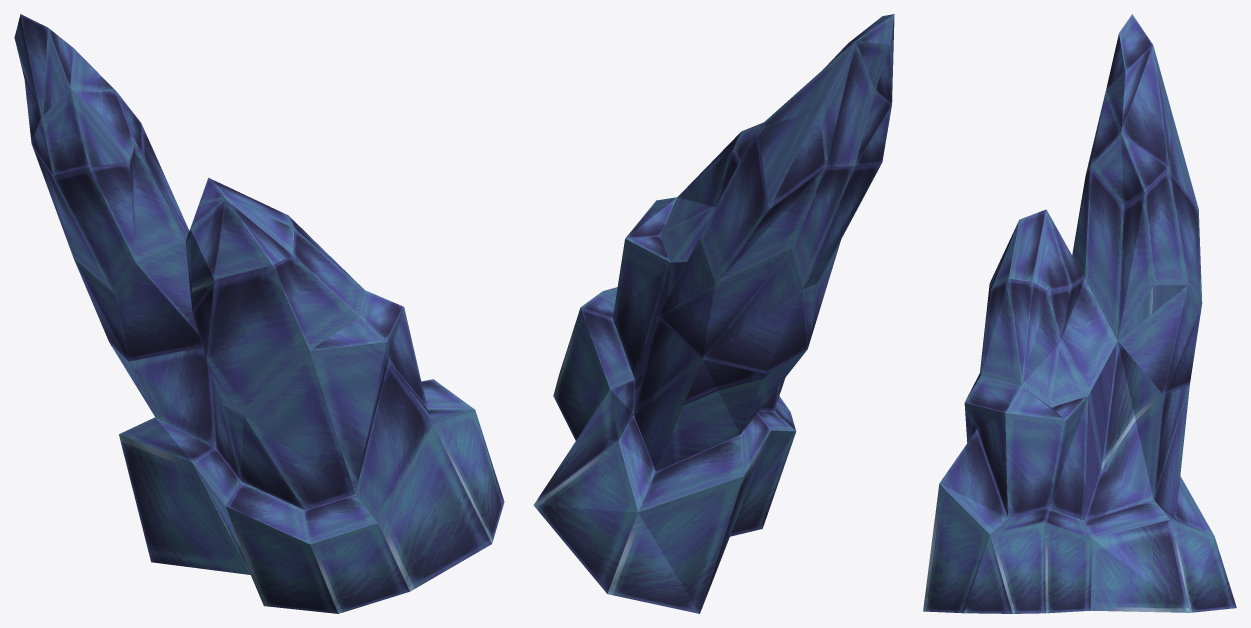
Rendered from crystalslarge02.fbx.
The picture shows the model from 3 angles, left to right: view 1: azimuth 30°, elevation 25°; view 2: azimuth 150°, elevation 25°; view 3: azimuth 270°, elevation 25°; orthographic projection. The views are drawn at different scales.
Visible parts, largest first — view 1: Geoset_0; view 2: Geoset_0; view 3: Geoset_0.
Boxes of the visible parts, bbox=[...] form: Geoset_0: bbox=[14, 14, 504, 613]; Geoset_0: bbox=[533, 14, 894, 613]; Geoset_0: bbox=[923, 14, 1236, 613].
Size of the model in its own units: 1.66 by 2.4 by 1.31.
Materials: 1 (1 with a texture image).
